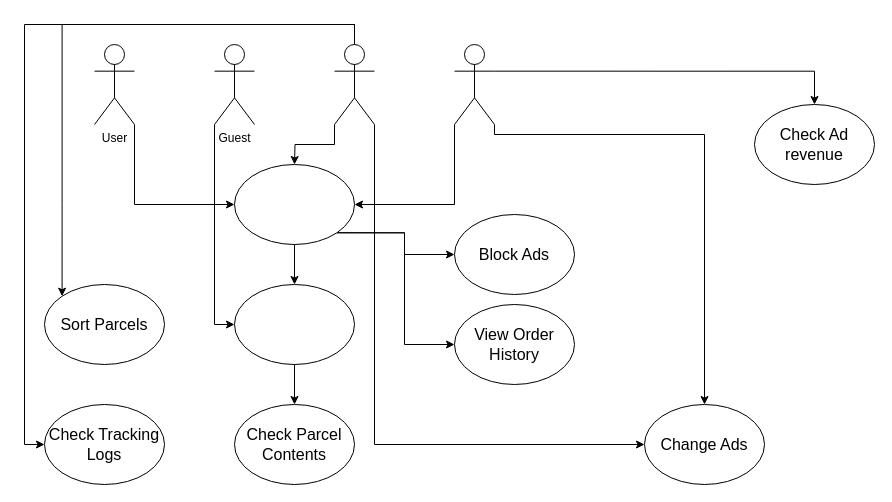
Some shapes in this 892 by 502 pixel diagram are drawn without their labels. Here are the shapes that lost their labels. From the top down, the centre of each, then its label:
(354,84): Admin
(474,84): Advertisor
(294,204): Login
(294,324): Track Parcel
